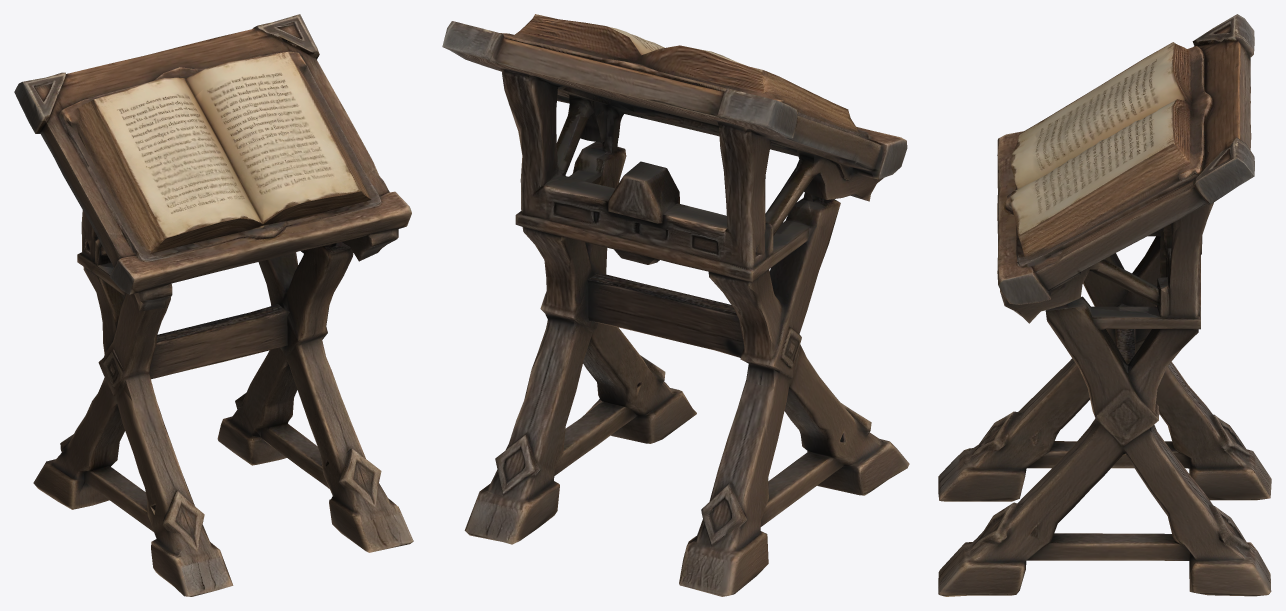
The picture shows the model from 3 angles, left to right: view 1: azimuth 30°, elevation 25°; view 2: azimuth 150°, elevation 25°; view 3: azimuth 270°, elevation 25°; orthographic projection. The views are drawn at different scales.
Size of the model in its own units: 1.38 by 2 by 1.34.
Materials: 1 (1 with a texture image).
